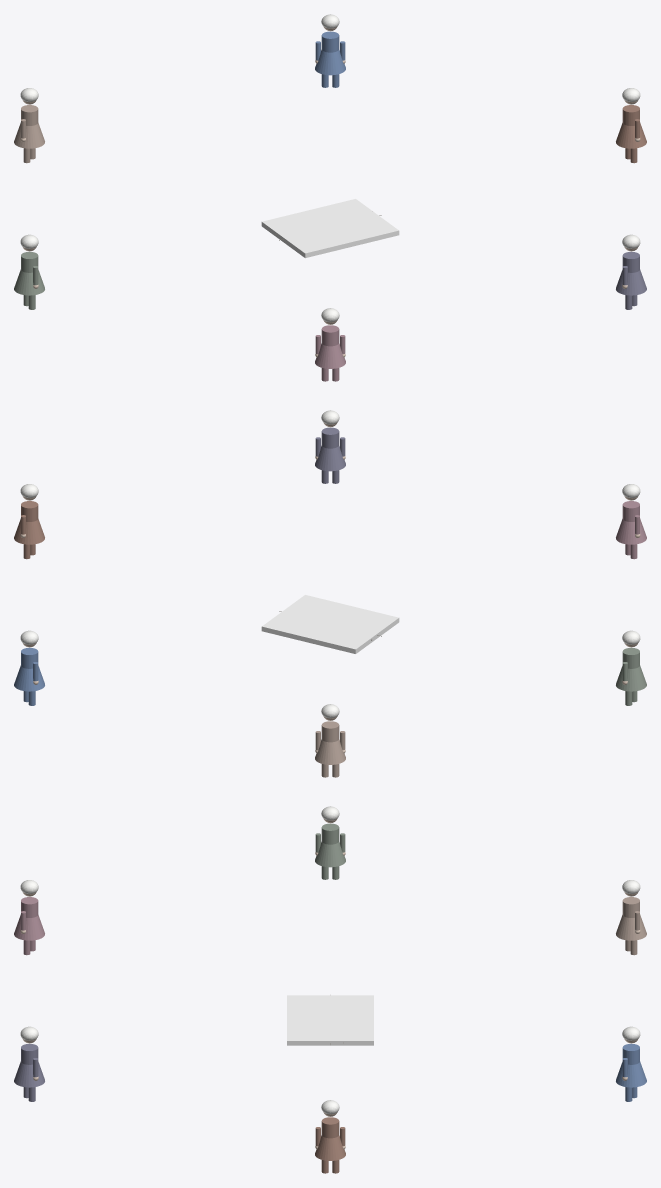
The model's file is abuelas_baldosa.glb.
3 views of the same model, one above another, from view 1: azimuth 30°, elevation 25°; view 2: azimuth 150°, elevation 25°; view 3: azimuth 270°, elevation 25° (orthographic).
Parts seen in each view (by area): view 1: Baldosa_Memorial, Cone.001, Cone.004, Cone.003, Cone.005, Cone, Cone.002; view 2: Baldosa_Memorial, Cone.005, Cone.002, Cone.001, Cone.003, Cone, Cone.004; view 3: Baldosa_Memorial, Cone.003, Cone, Cone.001, Cone.005, Cone.002, Cone.004.
Part boxes in pixels (x1=…): Baldosa_Memorial: x1=261, y1=199, x2=399, y2=257; Cone.001: x1=315, y1=49, x2=345, y2=75; Cone.004: x1=315, y1=343, x2=345, y2=368; Cone.003: x1=14, y1=269, x2=44, y2=295; Cone.005: x1=616, y1=269, x2=646, y2=295; Cone: x1=616, y1=122, x2=646, y2=148; Cone.002: x1=14, y1=122, x2=44, y2=148; Baldosa_Memorial: x1=261, y1=595, x2=399, y2=653; Cone.005: x1=315, y1=445, x2=345, y2=471; Cone.002: x1=315, y1=739, x2=345, y2=764; Cone.001: x1=14, y1=665, x2=44, y2=691; Cone.003: x1=616, y1=665, x2=646, y2=691; Cone: x1=14, y1=518, x2=44, y2=544; Cone.004: x1=616, y1=518, x2=646, y2=544; Baldosa_Memorial: x1=287, y1=995, x2=373, y2=1045; Cone.003: x1=315, y1=841, x2=345, y2=867; Cone: x1=315, y1=1135, x2=345, y2=1160; Cone.001: x1=616, y1=1061, x2=646, y2=1087; Cone.005: x1=14, y1=1061, x2=44, y2=1087; Cone.002: x1=616, y1=914, x2=646, y2=940; Cone.004: x1=14, y1=914, x2=44, y2=940.
Size of the model in its own units: 8.36 by 0.9 by 7.29.
